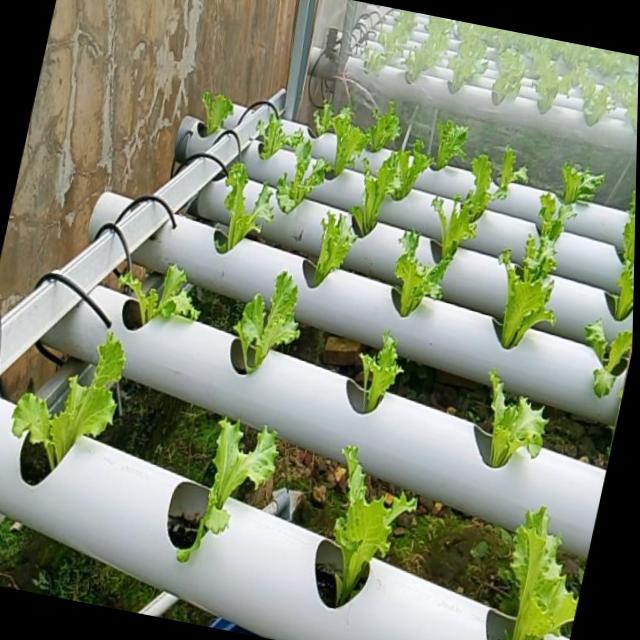Baby: (7, 327, 121, 464), (173, 413, 275, 558), (333, 443, 416, 603), (504, 505, 578, 640), (232, 266, 297, 368), (429, 173, 503, 261), (485, 367, 544, 464), (347, 147, 412, 235), (212, 156, 271, 248), (411, 110, 471, 197), (114, 255, 197, 316), (273, 129, 329, 211), (498, 262, 551, 347), (513, 212, 560, 302), (312, 98, 366, 174), (582, 318, 630, 397), (307, 208, 355, 284), (359, 327, 400, 408), (393, 230, 430, 313), (253, 103, 300, 156), (489, 145, 526, 199), (558, 161, 602, 204), (365, 99, 399, 149), (619, 186, 636, 267), (200, 84, 231, 127)
